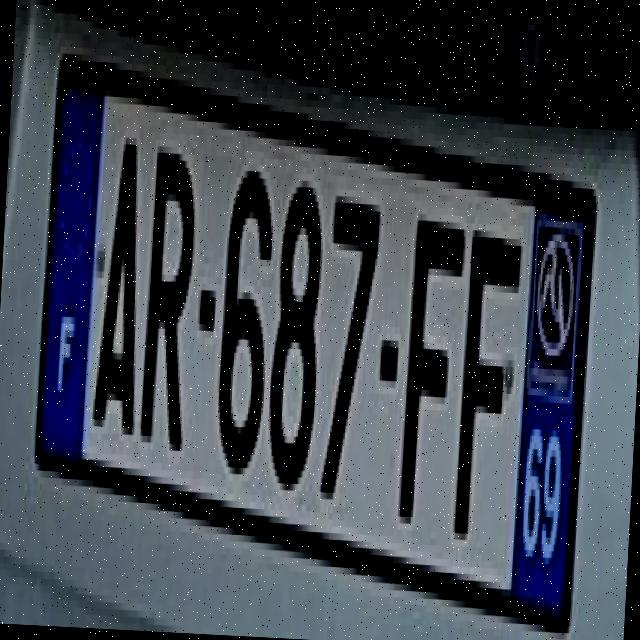EU: (33, 59, 596, 630)
France: (37, 70, 106, 476)
